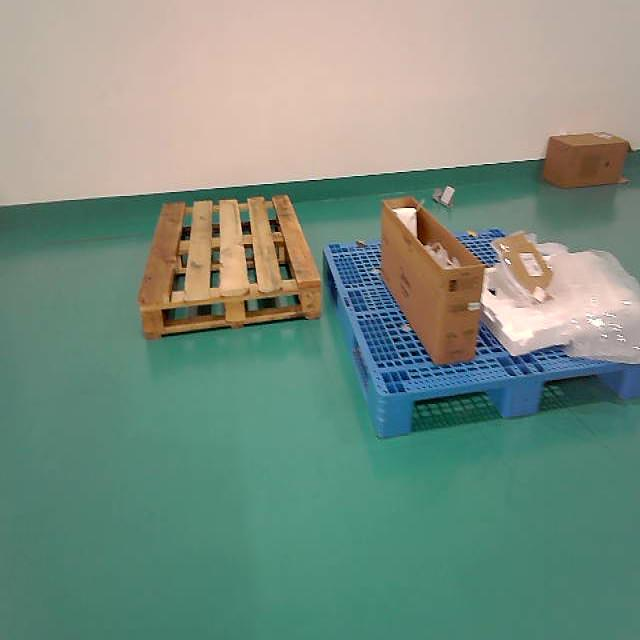euro: (139, 195, 320, 339)
